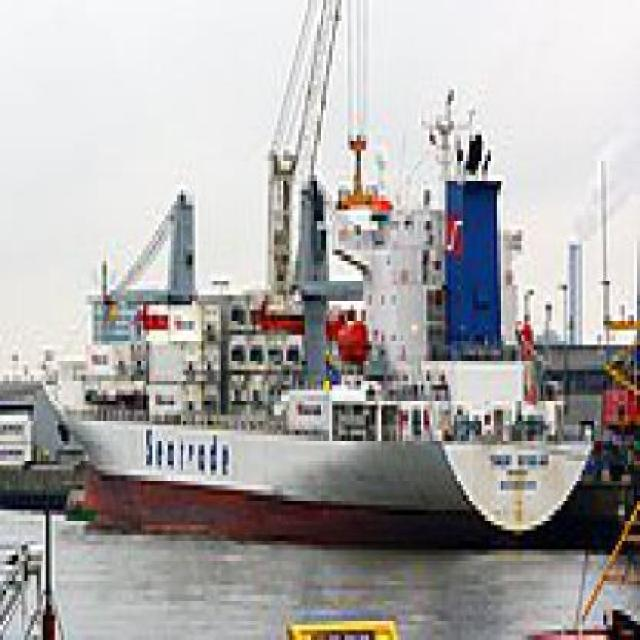container: (28, 176, 605, 551)
